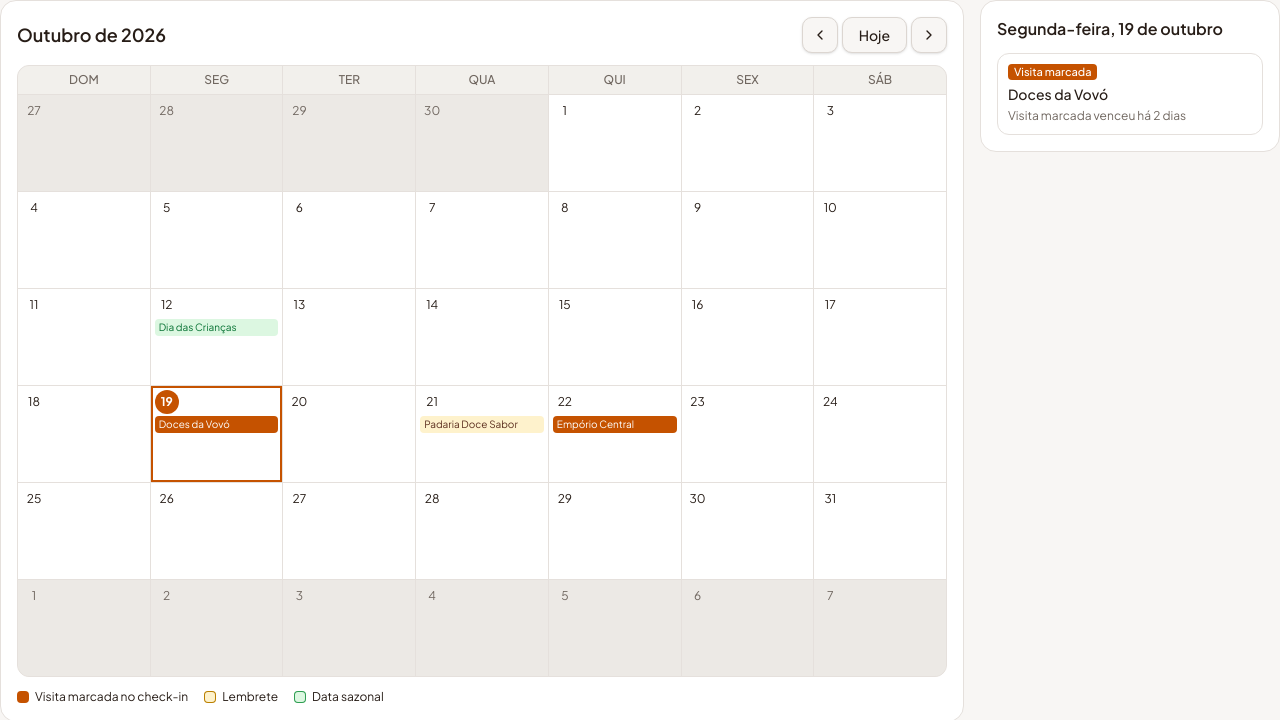
Test: Calendario › data sazonal aparece no dia, sem link
The image size is (1280, 720).
Click the button with aria-label "segunda-feira, 12 de outubro, 1 item".
click(217, 337)  # box [151,289,282,385]
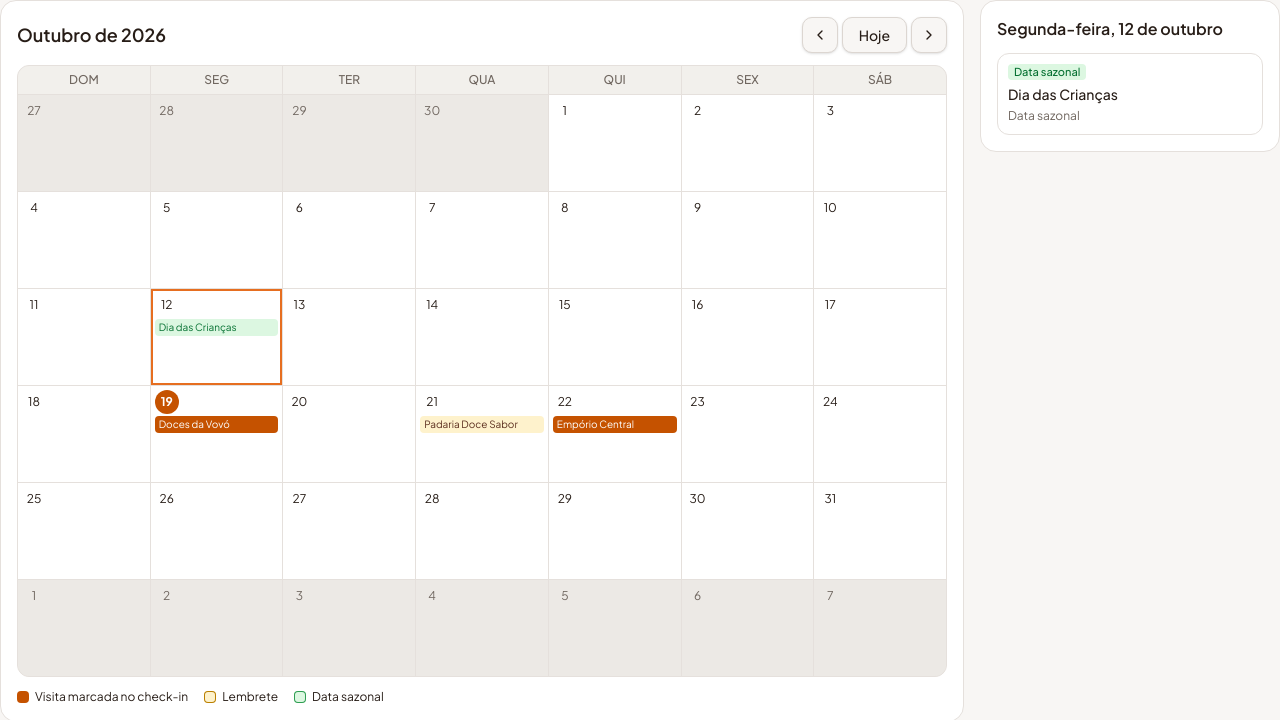
Check: the text "Dia das Crianças" below "segunda-feira, 12 de outubro" is shown, box [1008,85,1118,103]
Check: the link "Visita marcada Doces da Vovó Visita marcada venceu há 2 dias" is gone
